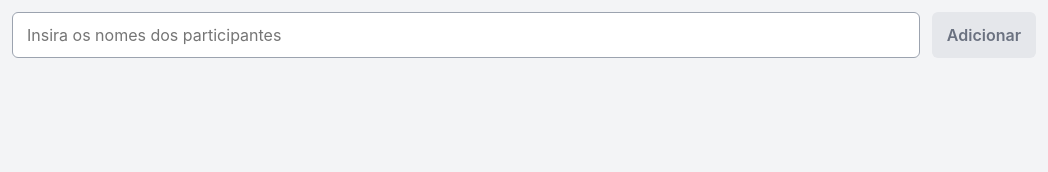
Test: o comportamento do formulário › adicionar um participante caso exista um nome preenchido
The image size is (1048, 172).
Type "Ana Catarina" into the field with placeholder "Insira os nomes dos participantes" at {"x": 466, "y": 35}, box [12,12,920,58]
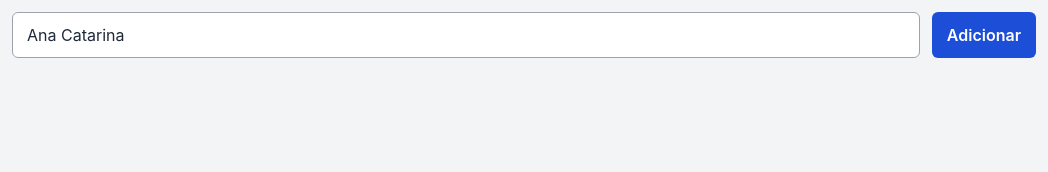
Click the button at {"x": 984, "y": 35}, box [932,12,1036,58]
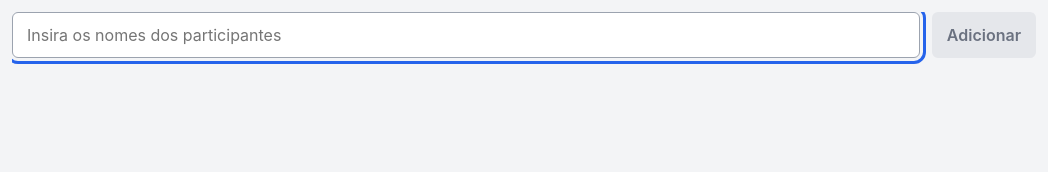
Expected: the field with placeholder "Insira os nomes dos participantes" is empty, [12,12,920,58]
